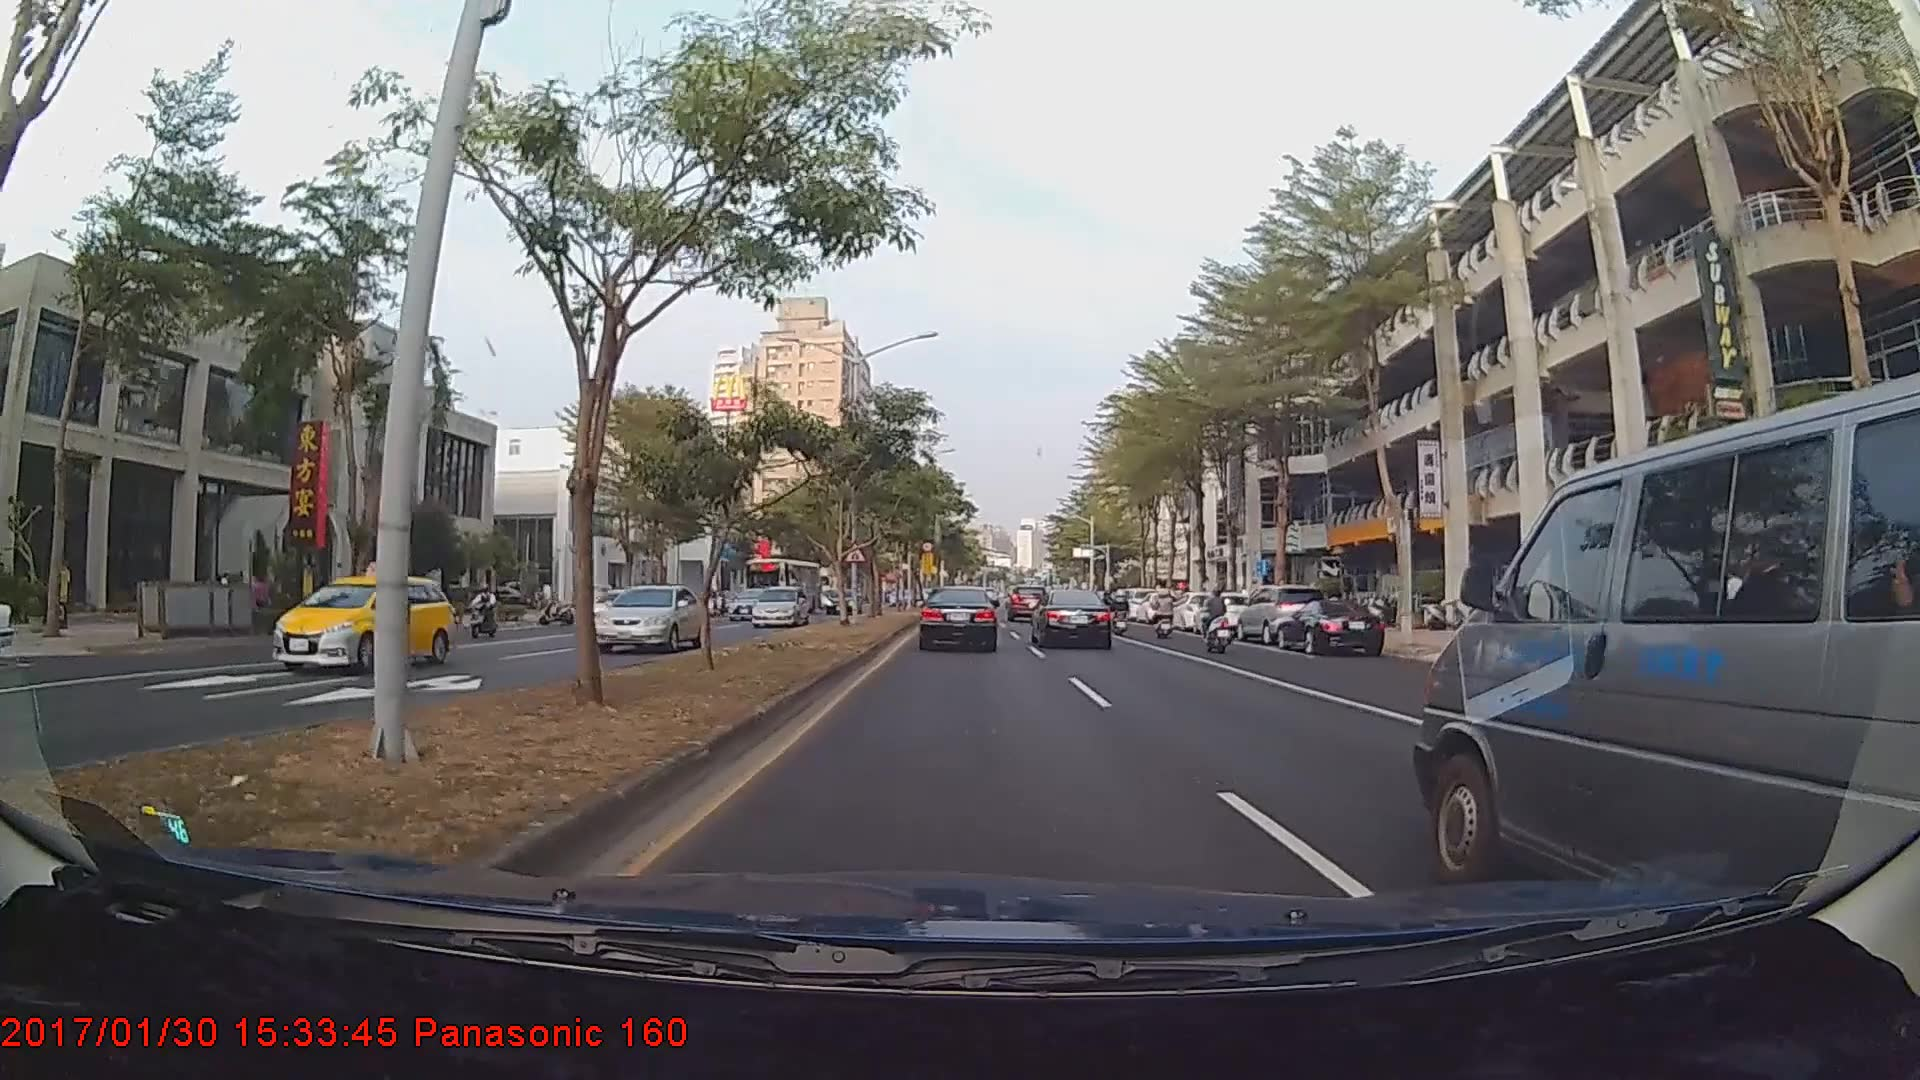rider: (1198, 586, 1237, 658), (467, 581, 504, 643), (1147, 584, 1179, 642), (1109, 586, 1131, 636)
vehicle: (1428, 400, 1910, 901), (270, 570, 457, 674), (595, 583, 707, 652), (1239, 585, 1331, 648), (1276, 600, 1385, 652), (917, 586, 1000, 652), (741, 555, 823, 619), (1033, 588, 1112, 650), (1192, 589, 1255, 634), (748, 584, 809, 628), (1005, 585, 1050, 623), (724, 587, 772, 620), (820, 585, 860, 614)
